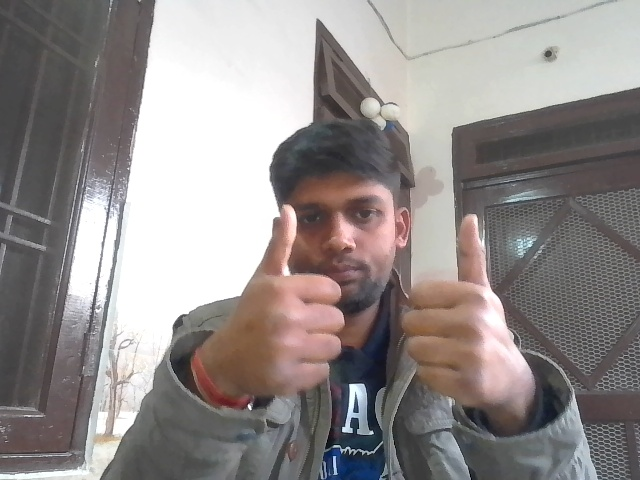Excellent: (216, 200, 510, 417)
